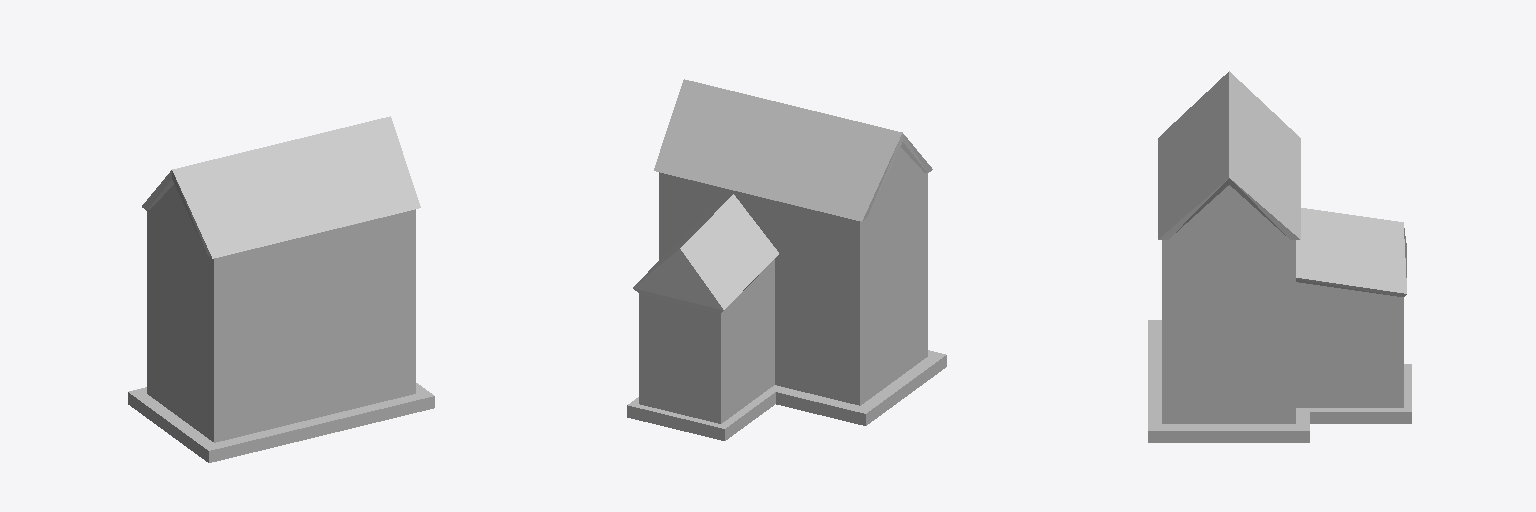
File: house_6.obj
3 views of the same model, side by side, from view 1: azimuth 30°, elevation 25°; view 2: azimuth 150°, elevation 25°; view 3: azimuth 270°, elevation 25° (orthographic).
Visible parts, largest first — view 1: Cube.034_Cube.044; view 2: Cube.034_Cube.044; view 3: Cube.034_Cube.044.
Boxes of the visible parts, <box> form: Cube.034_Cube.044: <box>128,116,434,462</box>; Cube.034_Cube.044: <box>627,79,946,440</box>; Cube.034_Cube.044: <box>1148,71,1411,442</box>.
Bounding box in the file's own units: 6.74 × 7.5 × 6.8.